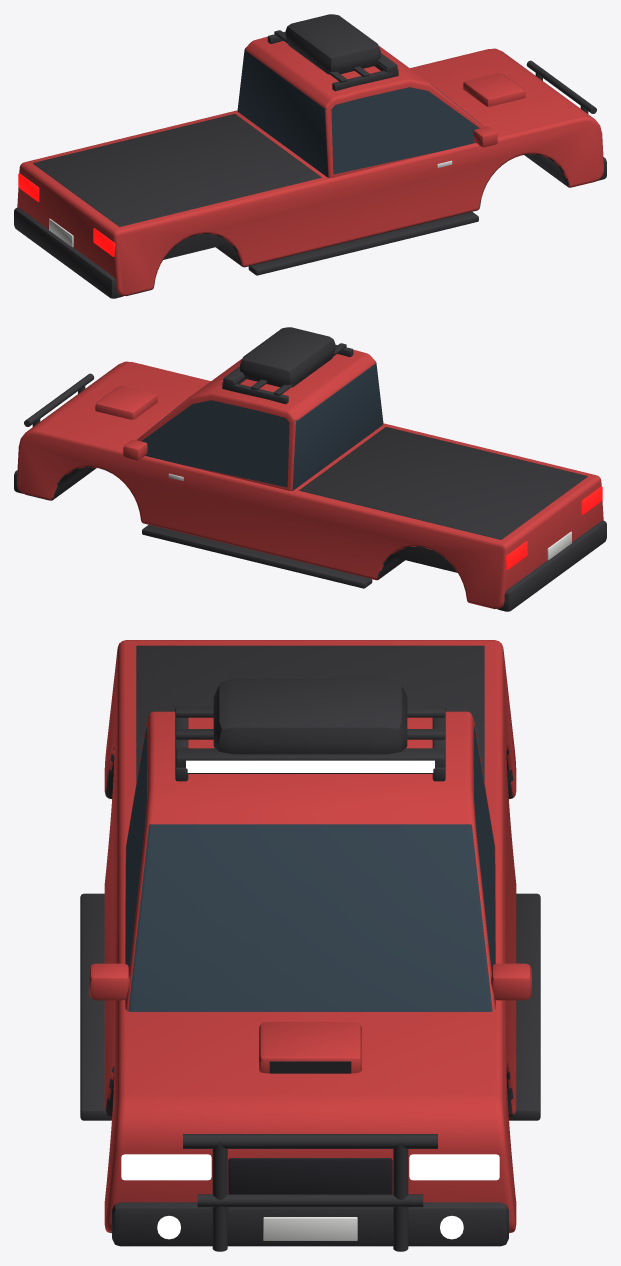
Rendered from picape_simples.glb.
The picture shows the model from 3 angles, top to bottom: view 1: azimuth 30°, elevation 25°; view 2: azimuth 150°, elevation 25°; view 3: azimuth 270°, elevation 25°; orthographic projection. The views are drawn at different scales.
Parts seen in each view (by area): view 1: carroceria, cabine, cacamba, bagageiro, estribo, parachoque_t, tomada, qm_barra, rack_trilho, retrovisor-1; view 2: carroceria, cabine, cacamba, bagageiro, estribo.001, parachoque_t, tomada, qm_barra, rack_trilho.001, retrovisor1; view 3: cabine, carroceria, cacamba, bagageiro, parachoque_d, grade, estribo, estribo.001, tomada, qm_barra, led_luz, qm_barra2 (+11 smaller).
Part boxes in pixels (bbox=[...]): carroceria: bbox=[17, 48, 603, 296]; cabine: bbox=[237, 36, 483, 177]; cacamba: bbox=[33, 114, 321, 259]; bagageiro: bbox=[285, 14, 380, 74]; estribo: bbox=[248, 211, 478, 275]; parachoque_t: bbox=[14, 207, 123, 298]; tomada: bbox=[463, 73, 525, 106]; qm_barra: bbox=[526, 60, 596, 113]; rack_trilho: bbox=[332, 69, 398, 91]; retrovisor-1: bbox=[473, 126, 497, 147]; carroceria: bbox=[17, 361, 603, 609]; cabine: bbox=[137, 349, 383, 490]; cacamba: bbox=[299, 427, 587, 572]; bagageiro: bbox=[240, 327, 335, 387]; estribo.001: bbox=[142, 524, 372, 588]; parachoque_t: bbox=[497, 520, 606, 611]; tomada: bbox=[95, 386, 157, 419]; qm_barra: bbox=[24, 373, 94, 426]; rack_trilho.001: bbox=[222, 382, 288, 404]; retrovisor1: bbox=[123, 439, 147, 460]; cabine: bbox=[125, 711, 495, 1011]; carroceria: bbox=[104, 640, 516, 1233]; cacamba: bbox=[136, 645, 484, 781]; bagageiro: bbox=[213, 679, 407, 754]; parachoque_d: bbox=[112, 1202, 508, 1246]; grade: bbox=[228, 1158, 392, 1194]; estribo: bbox=[80, 893, 111, 1120]; estribo.001: bbox=[509, 893, 540, 1120]; tomada: bbox=[259, 1022, 361, 1073]; qm_barra: bbox=[183, 1134, 437, 1148]; led_luz: bbox=[186, 760, 434, 772]; qm_barra2: bbox=[197, 1194, 423, 1207].
Bounding box in the file's own units: 5.42 × 1.73 × 2.14.
